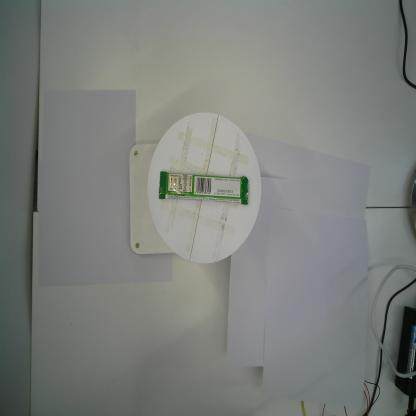Chocolate: (158, 169, 248, 208)
